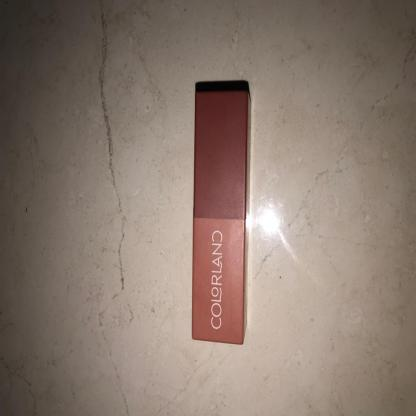lipstick: (169, 47, 278, 361)
